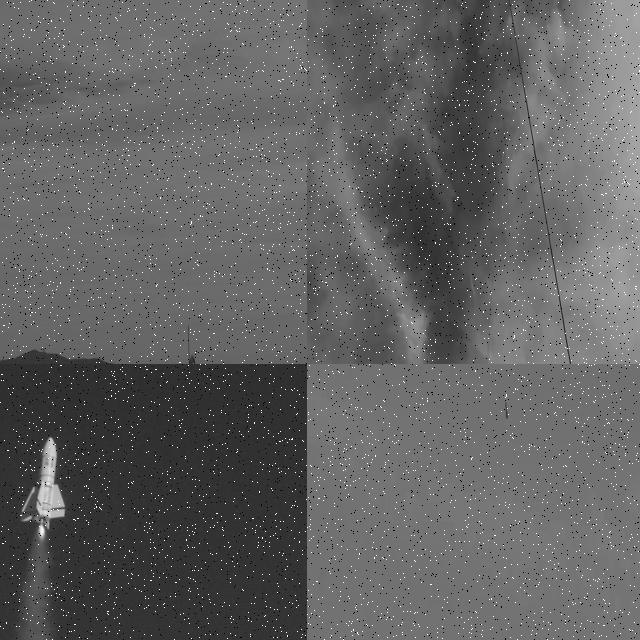Rocket: (18, 436, 68, 531), (505, 402, 509, 419), (502, 150, 504, 158)
